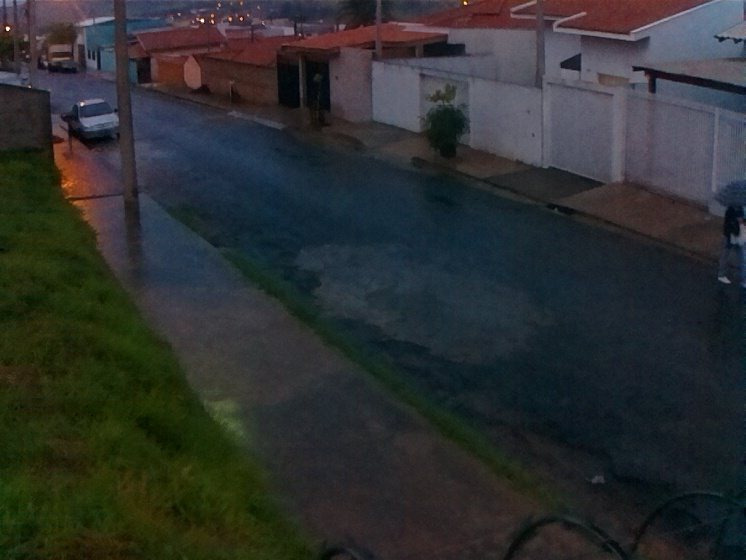person: (707, 202, 746, 295)
